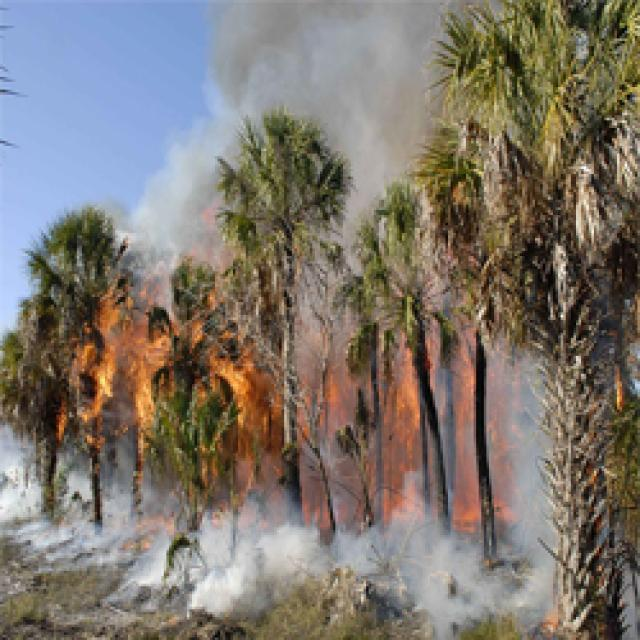Fire: (58, 270, 252, 501), (373, 346, 419, 507), (292, 367, 338, 441), (448, 494, 514, 525), (303, 493, 336, 522)
Smoke: (132, 0, 464, 272), (177, 486, 556, 640), (0, 439, 177, 608), (426, 359, 552, 486)
